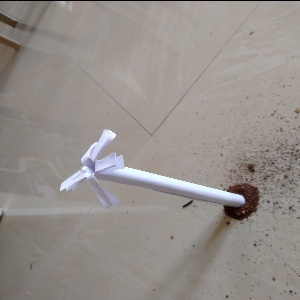weed: (58, 127, 257, 223)
